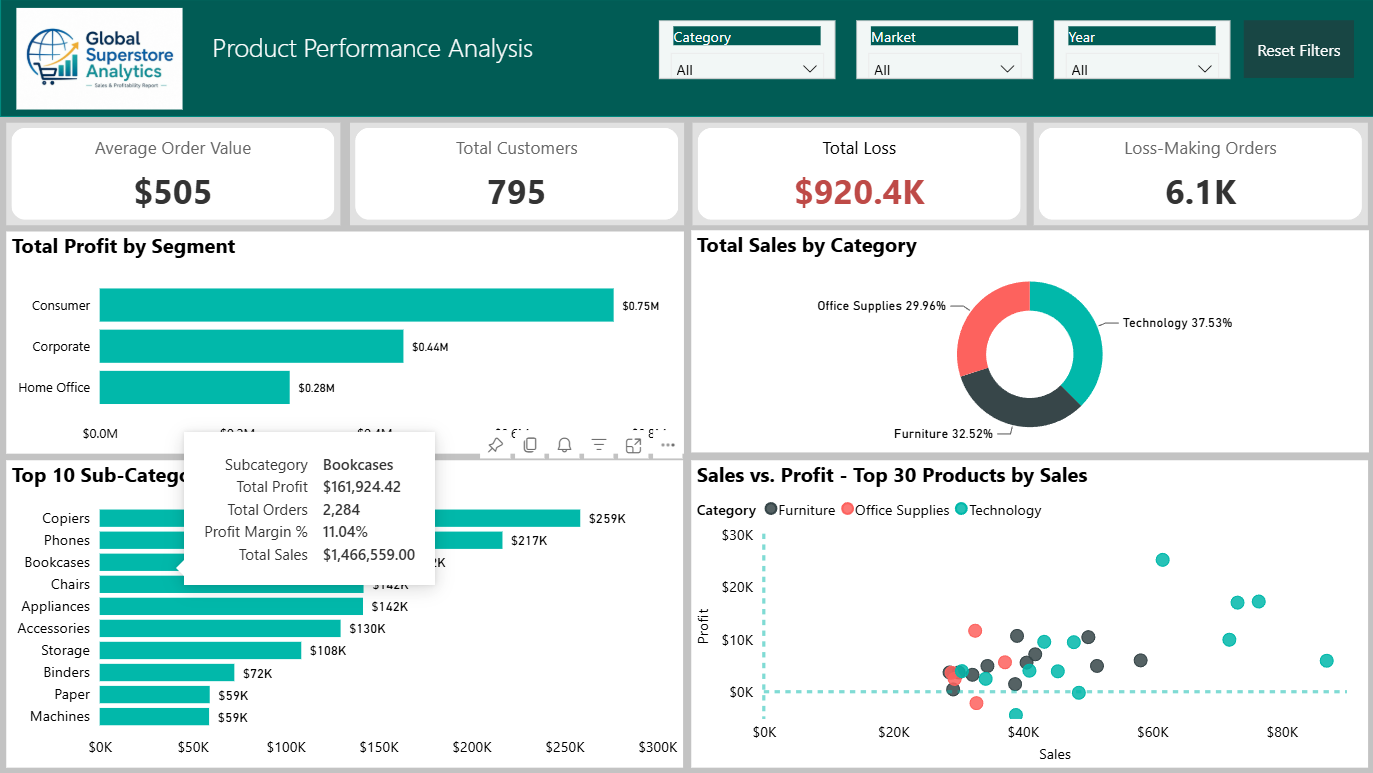

The page's visual inventory and layout, read from the dashboard file:
{"tool":"powerbi","page":{"name":"Product Performance Analysis","canvas":[1280,720],"ordinal":1},"visuals":[{"type":"scatterChart","title":"Sales vs. Profit - Top 30 Products by Sales","fields":{"Category":["DimProduct.Product Name"],"Series":["DimProduct.Category"],"X":["Measures (2).Total Sales"],"Y":["Measures (2).Total Profit"]},"box":[641.7,428.2,629,285.9],"z":0},{"type":"shape","box":[0,0,1279,109.6],"z":1000},{"type":"slicer","fields":{"Values":["DimDate.Year"]},"box":[979,20,164,54],"z":2000},{"type":"slicer","fields":{"Values":["DimProduct.Category"]},"box":[612,20,164,54],"z":3000},{"type":"slicer","fields":{"Values":["DimGeography.Market"]},"box":[795,20,164,54],"z":4000},{"type":"image","box":[0,4,184.7,104],"z":5000},{"type":"textbox","box":[184.7,4.3,323.2,105.3],"z":6000},{"type":"cardVisual","fields":{"Data":["Measures (2).Average Order Value"]},"box":[6.1,115.3,310,95.2],"z":7000},{"type":"cardVisual","fields":{"Data":["Measures (2).Total Customers"]},"box":[325.2,115.3,310,95.2],"z":8000},{"type":"cardVisual","fields":{"Data":["Measures (2).Loss Amount"]},"box":[642.9,115.3,310,95.2],"z":9000},{"type":"cardVisual","fields":{"Data":["Measures (2).Loss-Making Orders"]},"box":[960.7,115.3,310,95.2],"z":10000},{"type":"clusteredBarChart","fields":{"Category":["DimCustomer.segment"],"Y":["Measures (2).Total Profit"]},"box":[6.1,216,629.5,206.1],"z":11000},{"type":"donutChart","title":"Total Sales by Category","fields":{"Category":["DimProduct.Category"],"Y":["Measures (2).Total Sales"]},"box":[641.7,214.7,629.5,206.1],"z":12000},{"type":"barChart","title":"Top 10 Sub-Categories by Profit","fields":{"Category":["DimProduct.Subcategory"],"Y":["Measures (2).Total Profit"]},"box":[6.1,428.2,629,285.9],"z":13000},{"type":"actionButton","box":[1155.7,20.2,102.4,53.4],"z":14000}]}

Visuals, with their boxes in screenshot pixels (x1, y1, x2, y2), scaled from the page's 1280x720 canvas onto the 1373x773 screenshot:
"Sales vs. Profit - Top 30 Products by Sales" scatterChart: Rect(688, 460, 1363, 767)
shape: Rect(0, 0, 1372, 118)
slicer - DimDate.Year: Rect(1050, 21, 1226, 79)
slicer - DimProduct.Category: Rect(656, 21, 832, 79)
slicer - DimGeography.Market: Rect(853, 21, 1029, 79)
image: Rect(0, 4, 198, 116)
textbox: Rect(198, 5, 545, 118)
cardVisual - Measures (2).Average Order Value: Rect(7, 124, 339, 226)
cardVisual - Measures (2).Total Customers: Rect(349, 124, 681, 226)
cardVisual - Measures (2).Loss Amount: Rect(690, 124, 1022, 226)
cardVisual - Measures (2).Loss-Making Orders: Rect(1031, 124, 1363, 226)
clusteredBarChart - DimCustomer.segment x Measures (2).Total Profit: Rect(7, 232, 682, 453)
"Total Sales by Category" donutChart: Rect(688, 231, 1364, 452)
"Top 10 Sub-Categories by Profit" barChart: Rect(7, 460, 681, 767)
actionButton: Rect(1240, 22, 1350, 79)
